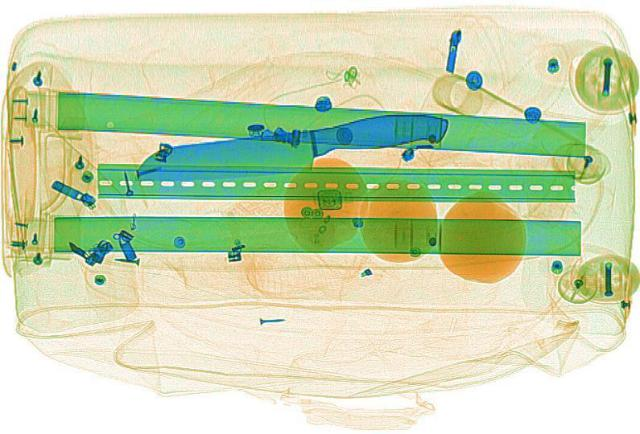Knife: (127, 108, 456, 189)
